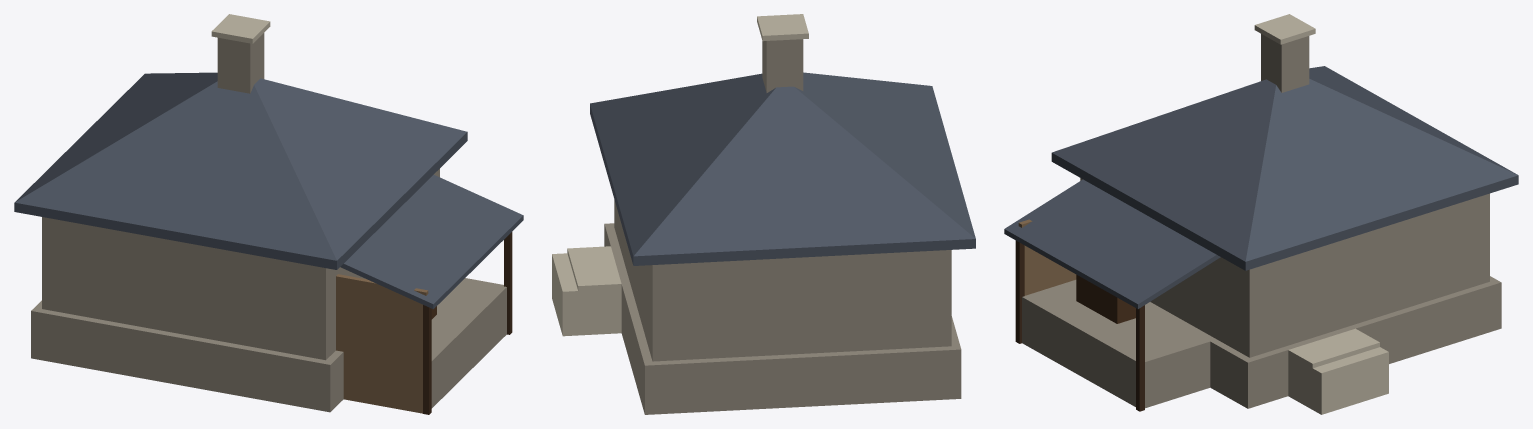
Rendered from SM_WillowPond_House6.fbx.
The picture shows the model from 3 angles, left to right: view 1: azimuth 30°, elevation 25°; view 2: azimuth 150°, elevation 25°; view 3: azimuth 270°, elevation 25°; orthographic projection. The views are drawn at different scales.
Visible parts, largest first — view 1: SM_WillowPond_House6; view 2: SM_WillowPond_House6; view 3: SM_WillowPond_House6.
Boxes of the visible parts, <box> form: SM_WillowPond_House6: <box>14,14,523,414</box>; SM_WillowPond_House6: <box>552,14,975,414</box>; SM_WillowPond_House6: <box>1004,14,1518,414</box>.
Size of the model in its own units: 10.2 by 7.06 by 11.3.
